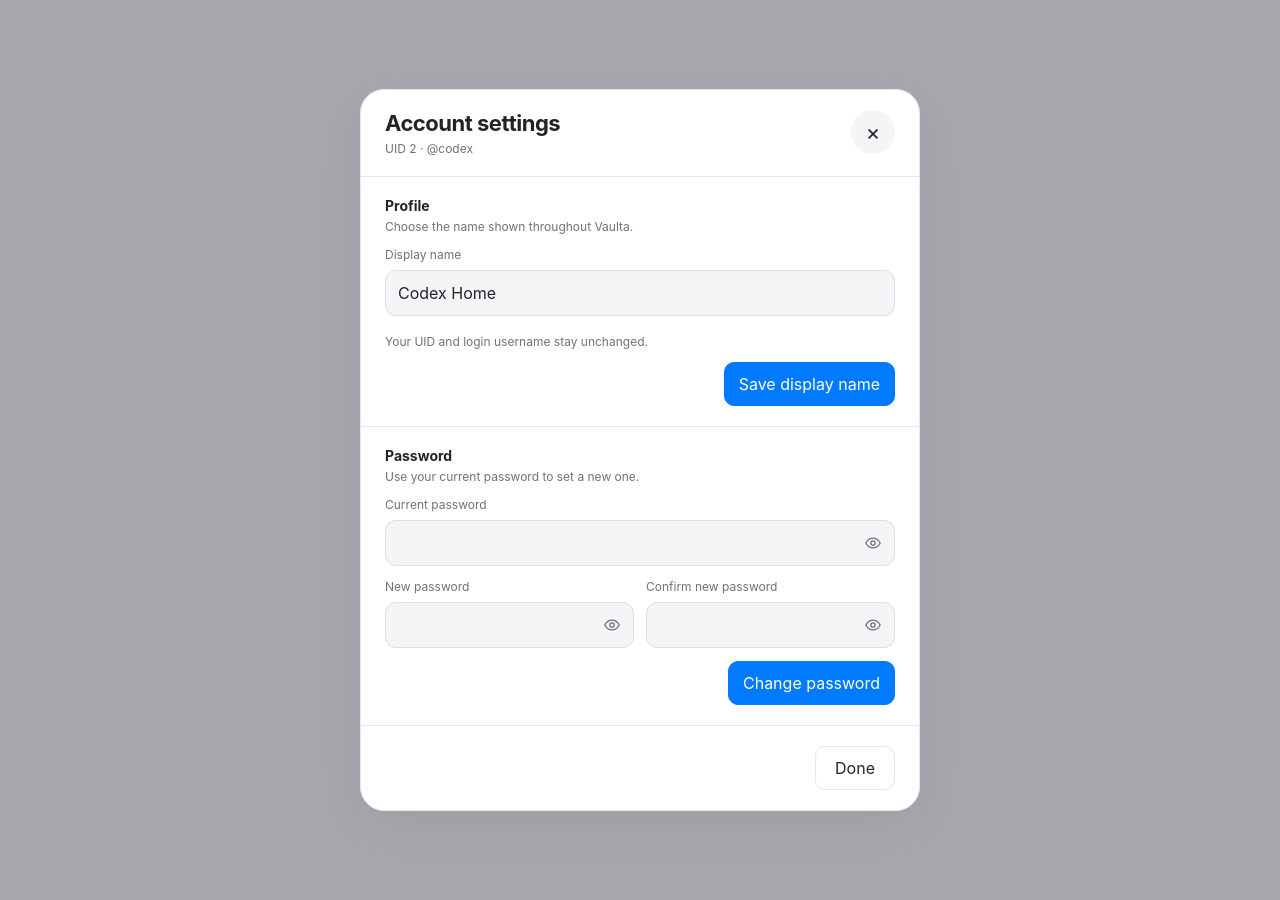
Scenario: AccountSettingsDialog › changes the password independently and clears password fields
Type "oldpass" into the password field labelled "Current password" at coordinates (640, 543), box [385,520,895,566]
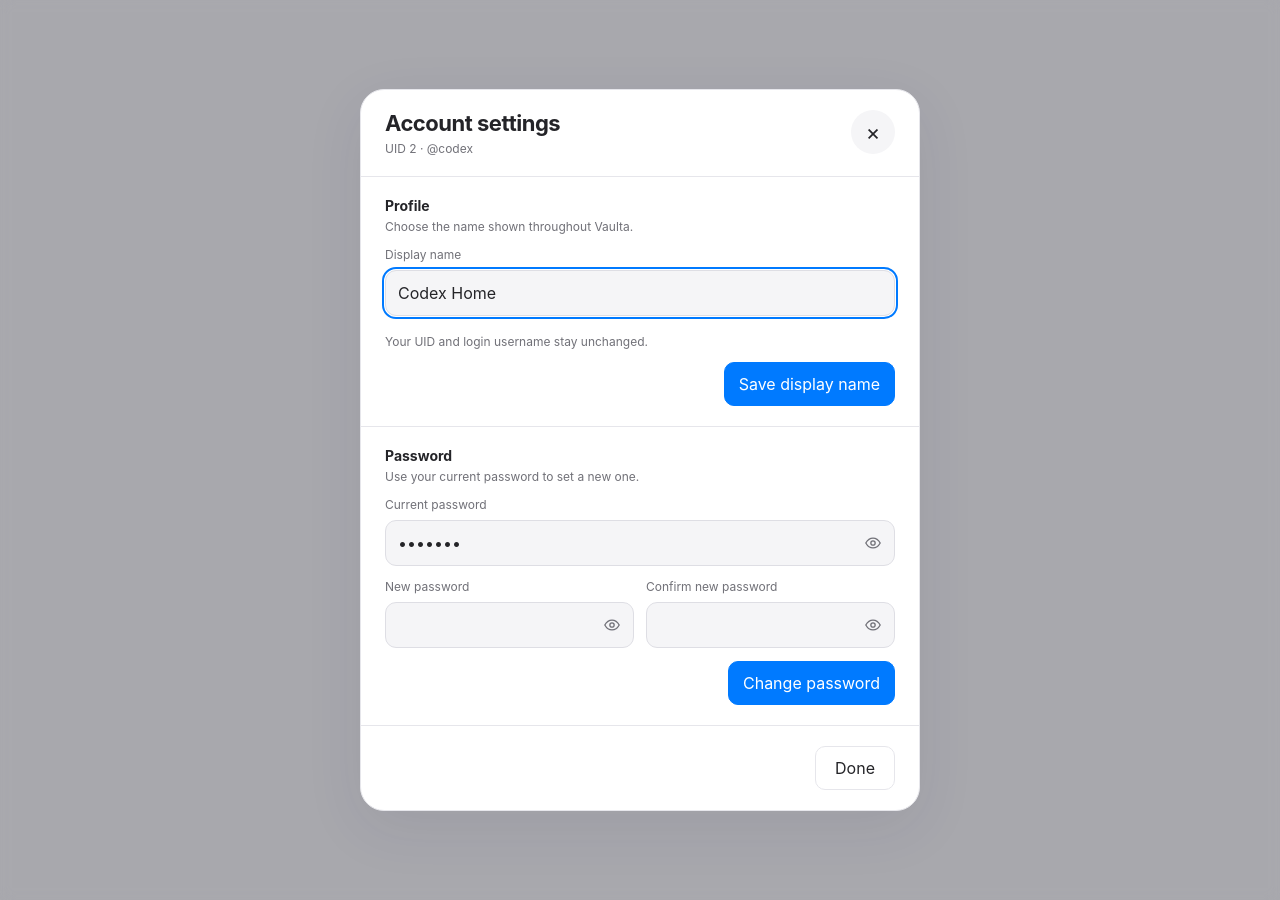
Type "newpass" into the password field labelled "New password" at coordinates (510, 625), box [385,602,634,648]
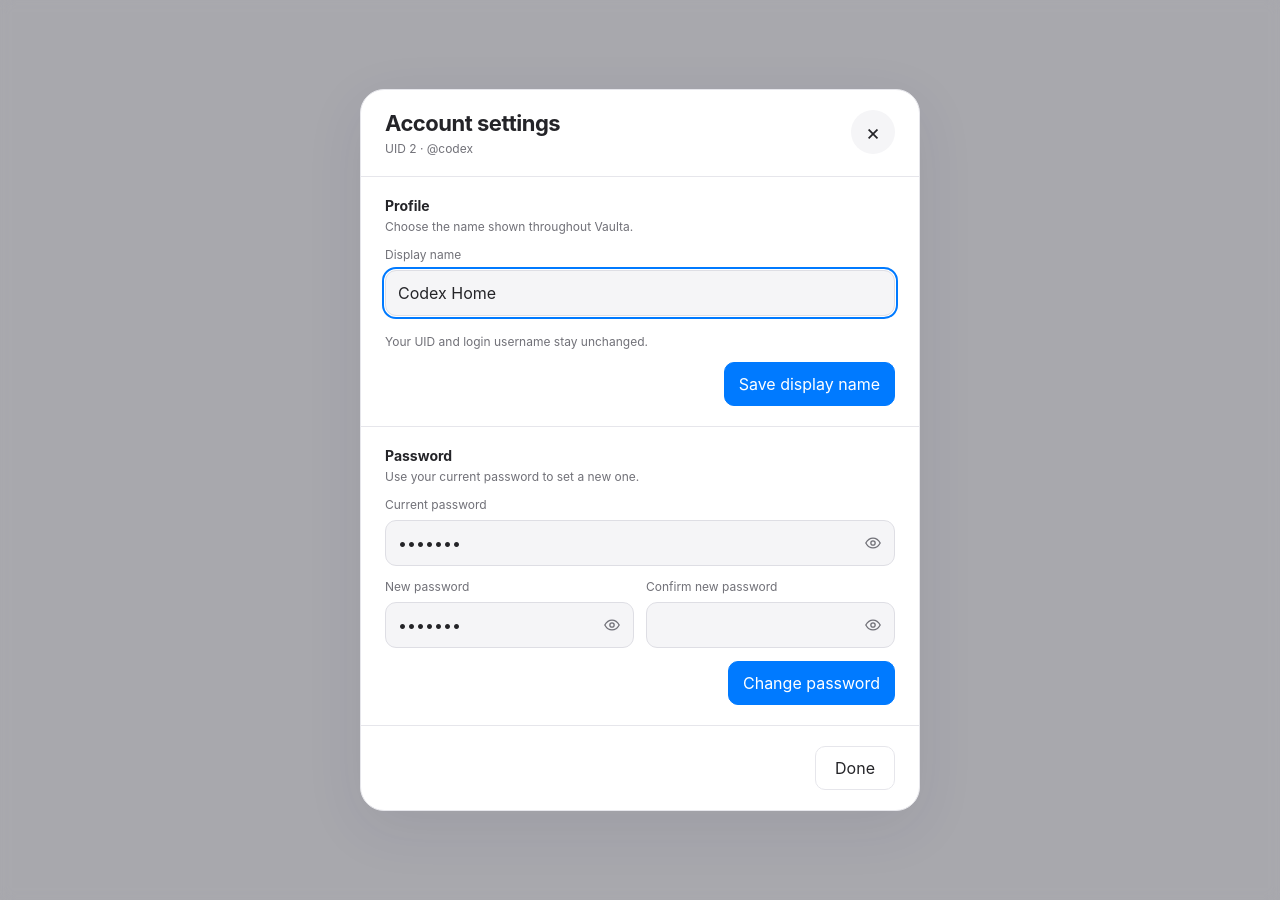
Type "newpass" into the password field labelled "Confirm new password" at coordinates (770, 625), box [646,602,895,648]
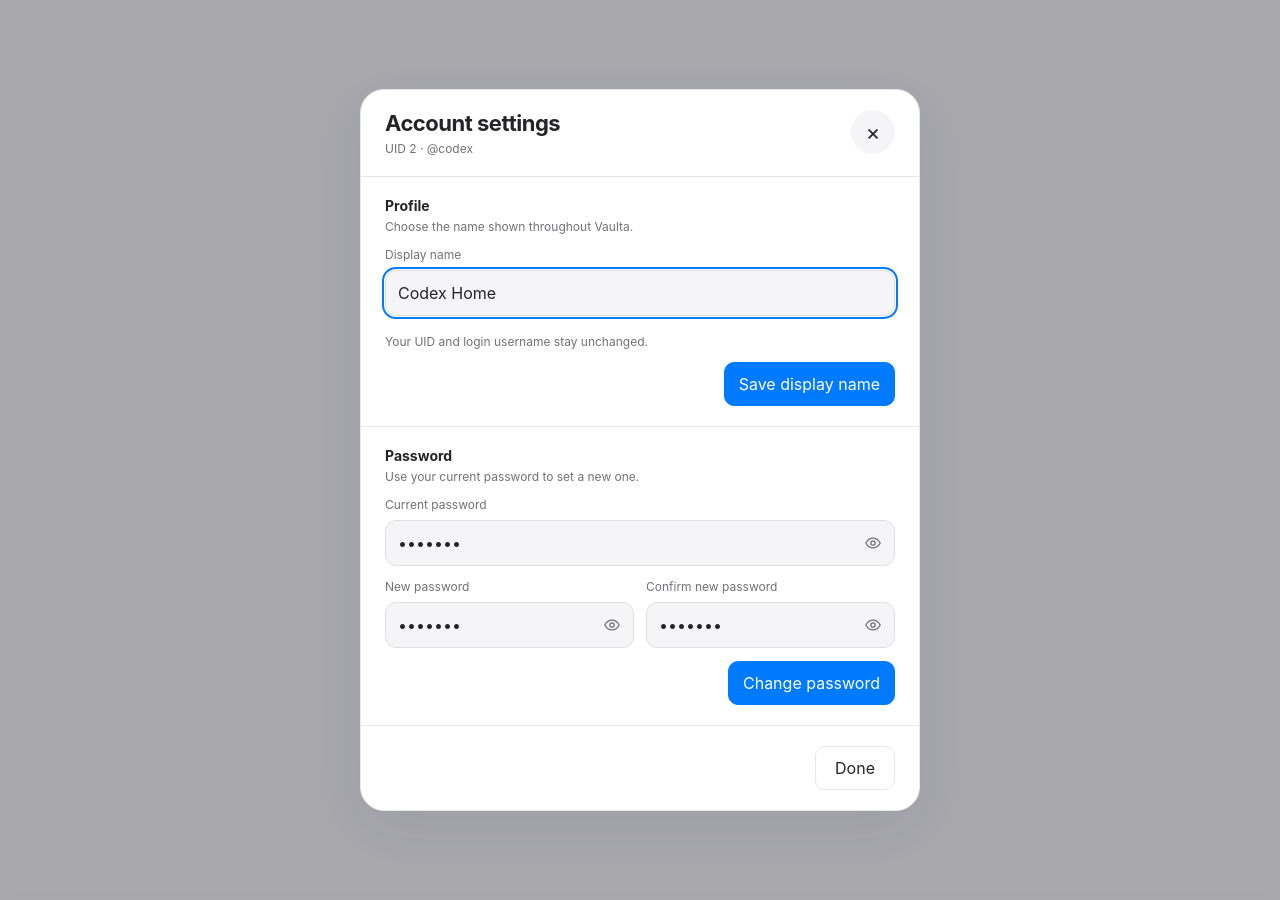
Submit the form that starts with "Password", box [361,427,919,726]
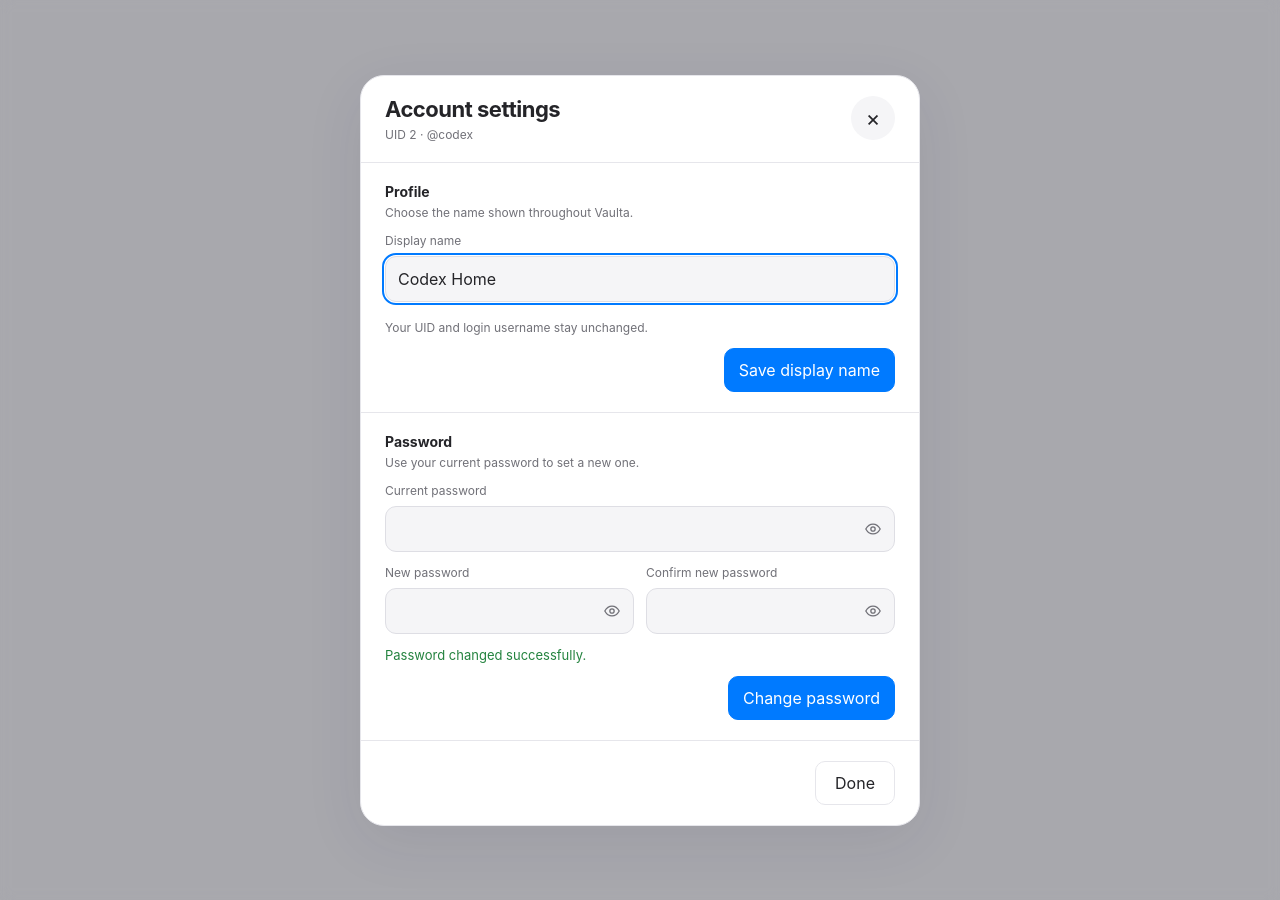
Result: the text "Password changed successfully." is shown at [385,646,586,662]
